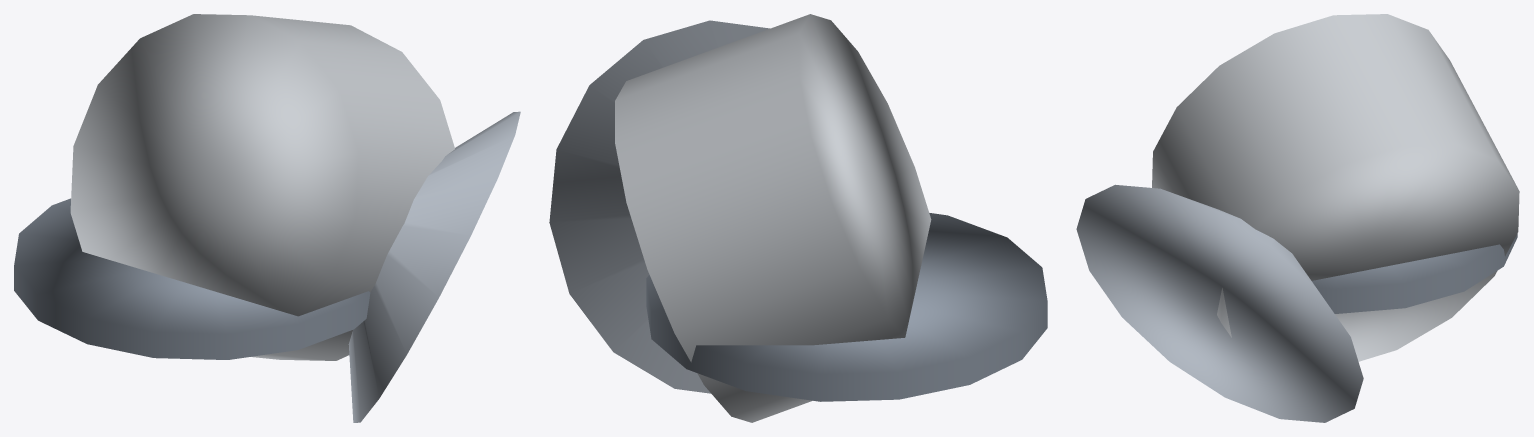
Rendered from grain-bin-wreck.glb.
The picture shows the model from 3 angles, left to right: view 1: azimuth 30°, elevation 25°; view 2: azimuth 150°, elevation 25°; view 3: azimuth 270°, elevation 25°; orthographic projection. The views are drawn at different scales.
Parts seen in each view (by area): view 1: Root; view 2: Root; view 3: Root.
Part boxes in pixels (box(x1,y1,x2,y2)): Root: box(14, 14, 520, 422); Root: box(549, 14, 1047, 422); Root: box(1076, 14, 1519, 422).
Size of the model in its own units: 10.85 by 8.88 by 9.73.
